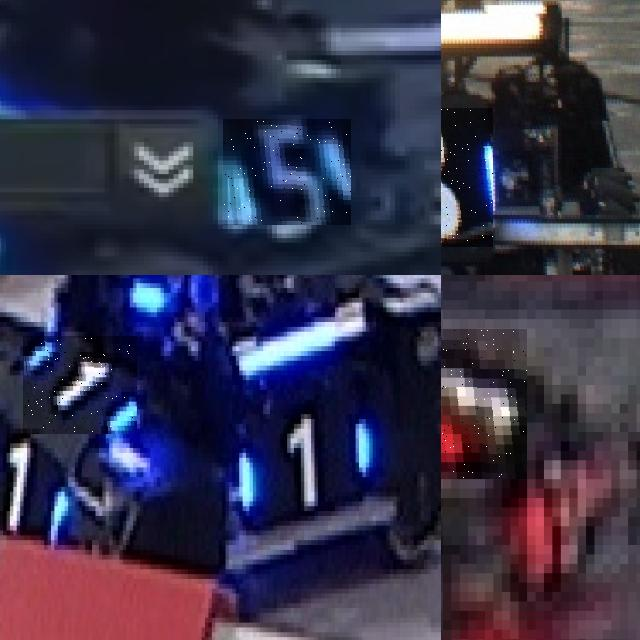B1: (235, 409, 372, 516), (23, 336, 137, 434), (0, 424, 71, 550)
B3: (441, 108, 493, 247)
B5: (223, 119, 351, 225)
R3: (441, 328, 527, 479)
